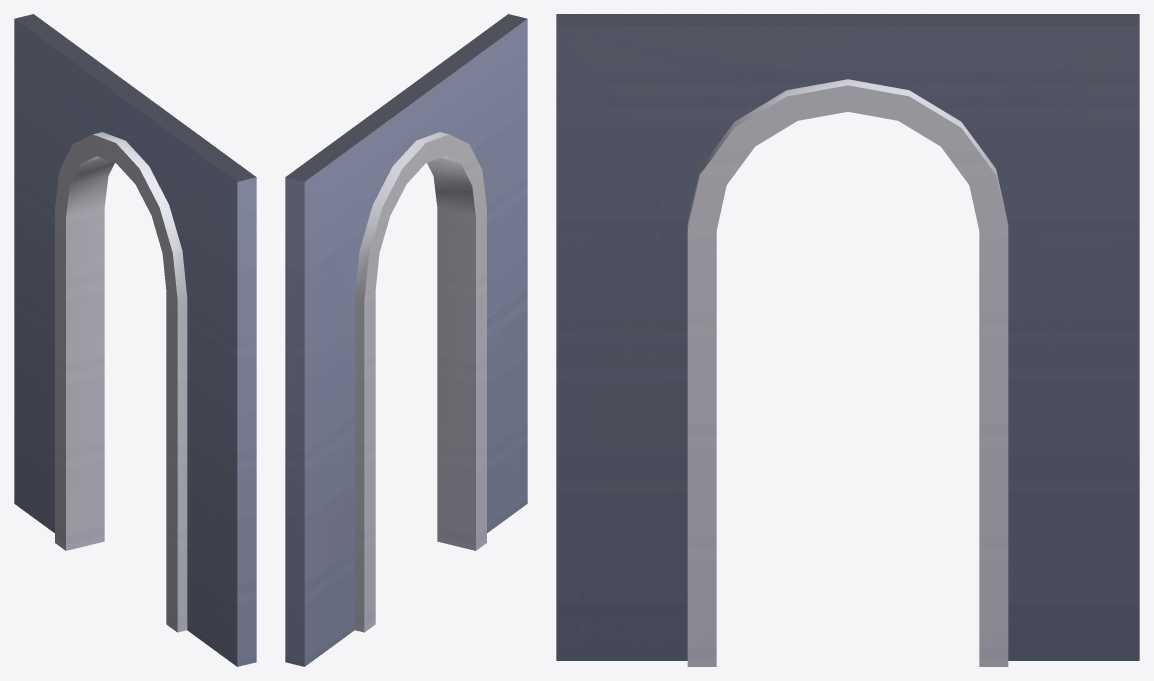
Rendered from wall-doorway-round.glb.
The picture shows the model from 3 angles, left to right: view 1: azimuth 30°, elevation 25°; view 2: azimuth 150°, elevation 25°; view 3: azimuth 270°, elevation 25°; orthographic projection. The views are drawn at different scales.
Parts seen in each view (by area): view 1: wall-doorway-round; view 2: wall-doorway-round; view 3: wall-doorway-round.
Part boxes in pixels (bbox=[...]): wall-doorway-round: bbox=[14, 14, 256, 666]; wall-doorway-round: bbox=[285, 14, 527, 666]; wall-doorway-round: bbox=[556, 14, 1139, 666].
Bounding box in the file's own units: 0.2 × 2.4 × 2.
1 material, 1 textured.
